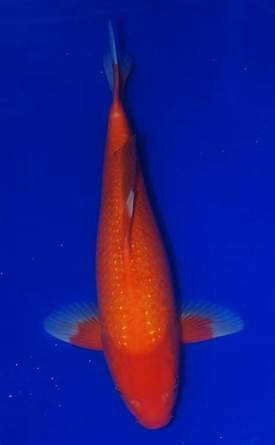red: (44, 20, 244, 429)
